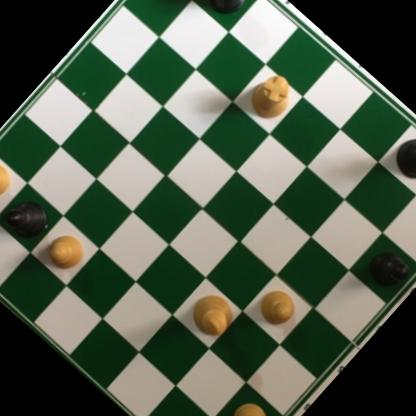black-bishop: (0, 186, 60, 248)
black-king: (386, 121, 416, 194)
black-pawn: (362, 242, 416, 297)
black-rook: (198, 0, 264, 22)
white-king: (182, 284, 244, 346)
white-pawn: (39, 223, 92, 276), (250, 281, 301, 332), (222, 393, 278, 416), (0, 152, 21, 204)
white-rook: (239, 64, 304, 129)
